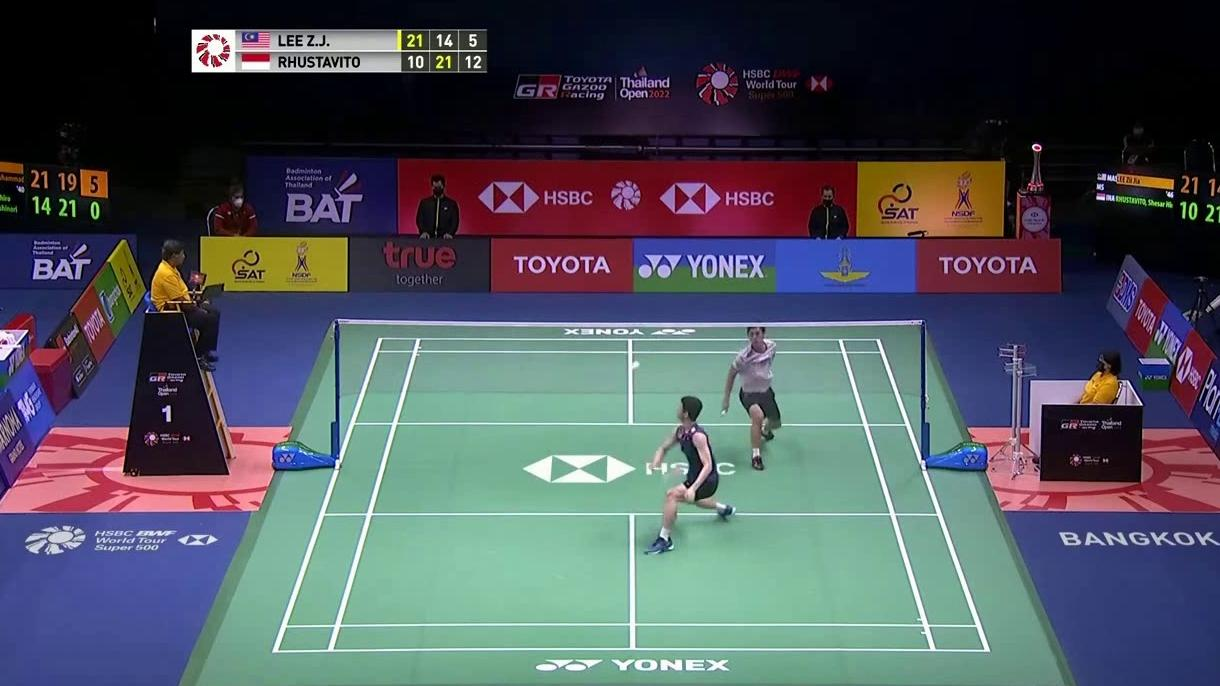racket: (645, 460, 688, 497), (703, 407, 736, 453)
shuttle: (630, 358, 644, 373)
